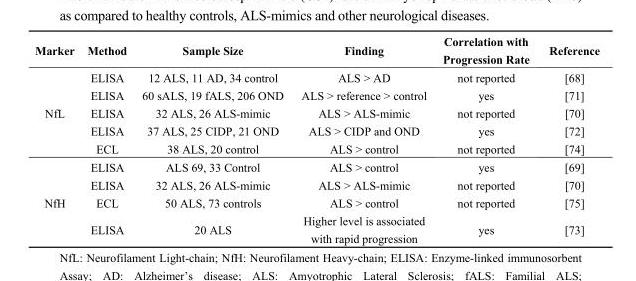table: (34, 34, 599, 244)
table column: (133, 34, 291, 244), (291, 34, 434, 244), (434, 34, 538, 244), (538, 34, 599, 244), (80, 34, 133, 244), (34, 34, 80, 244)
table column header: (34, 34, 599, 67)
table row: (34, 34, 599, 67), (34, 211, 599, 244), (34, 67, 599, 86), (34, 103, 599, 121), (34, 121, 599, 139), (34, 139, 599, 157), (34, 157, 599, 175), (34, 175, 599, 193), (34, 193, 599, 211), (34, 86, 599, 103)
table spanning cell: (34, 67, 80, 157), (34, 157, 80, 244)
